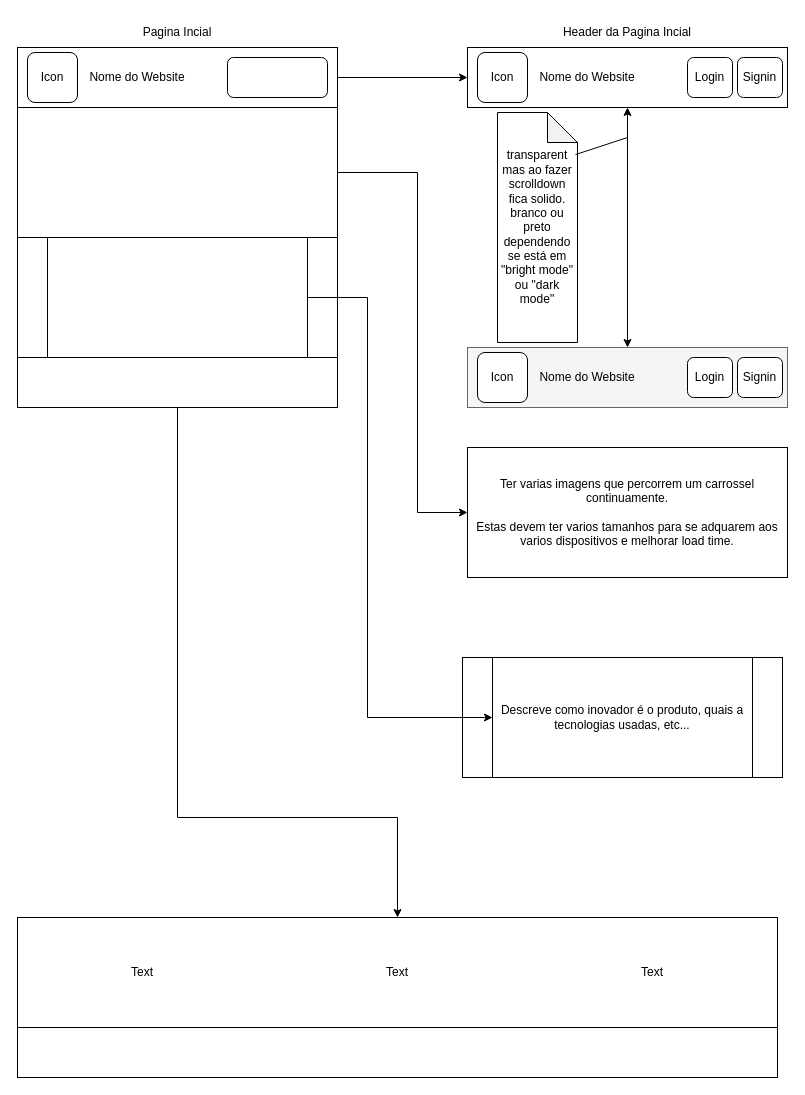
Image size: 805x1095. Some labels were removed from this diagram. The centre of each missing label's shape, as x and y in pixels:
"@ 2024 Vasco J. Diogo B. Ricardo D. Ricardo B. Privacy Terms Cookie Preferences" belongs at [397,1052].
"Autenticção" belongs at [277,77].
"Footer" belongs at [177,382].
"Razões para usar a aplicação" belongs at [177,297].
"Slide com imagens que insentivam o uso d esta aplicação (carossel)" belongs at [177,172].
